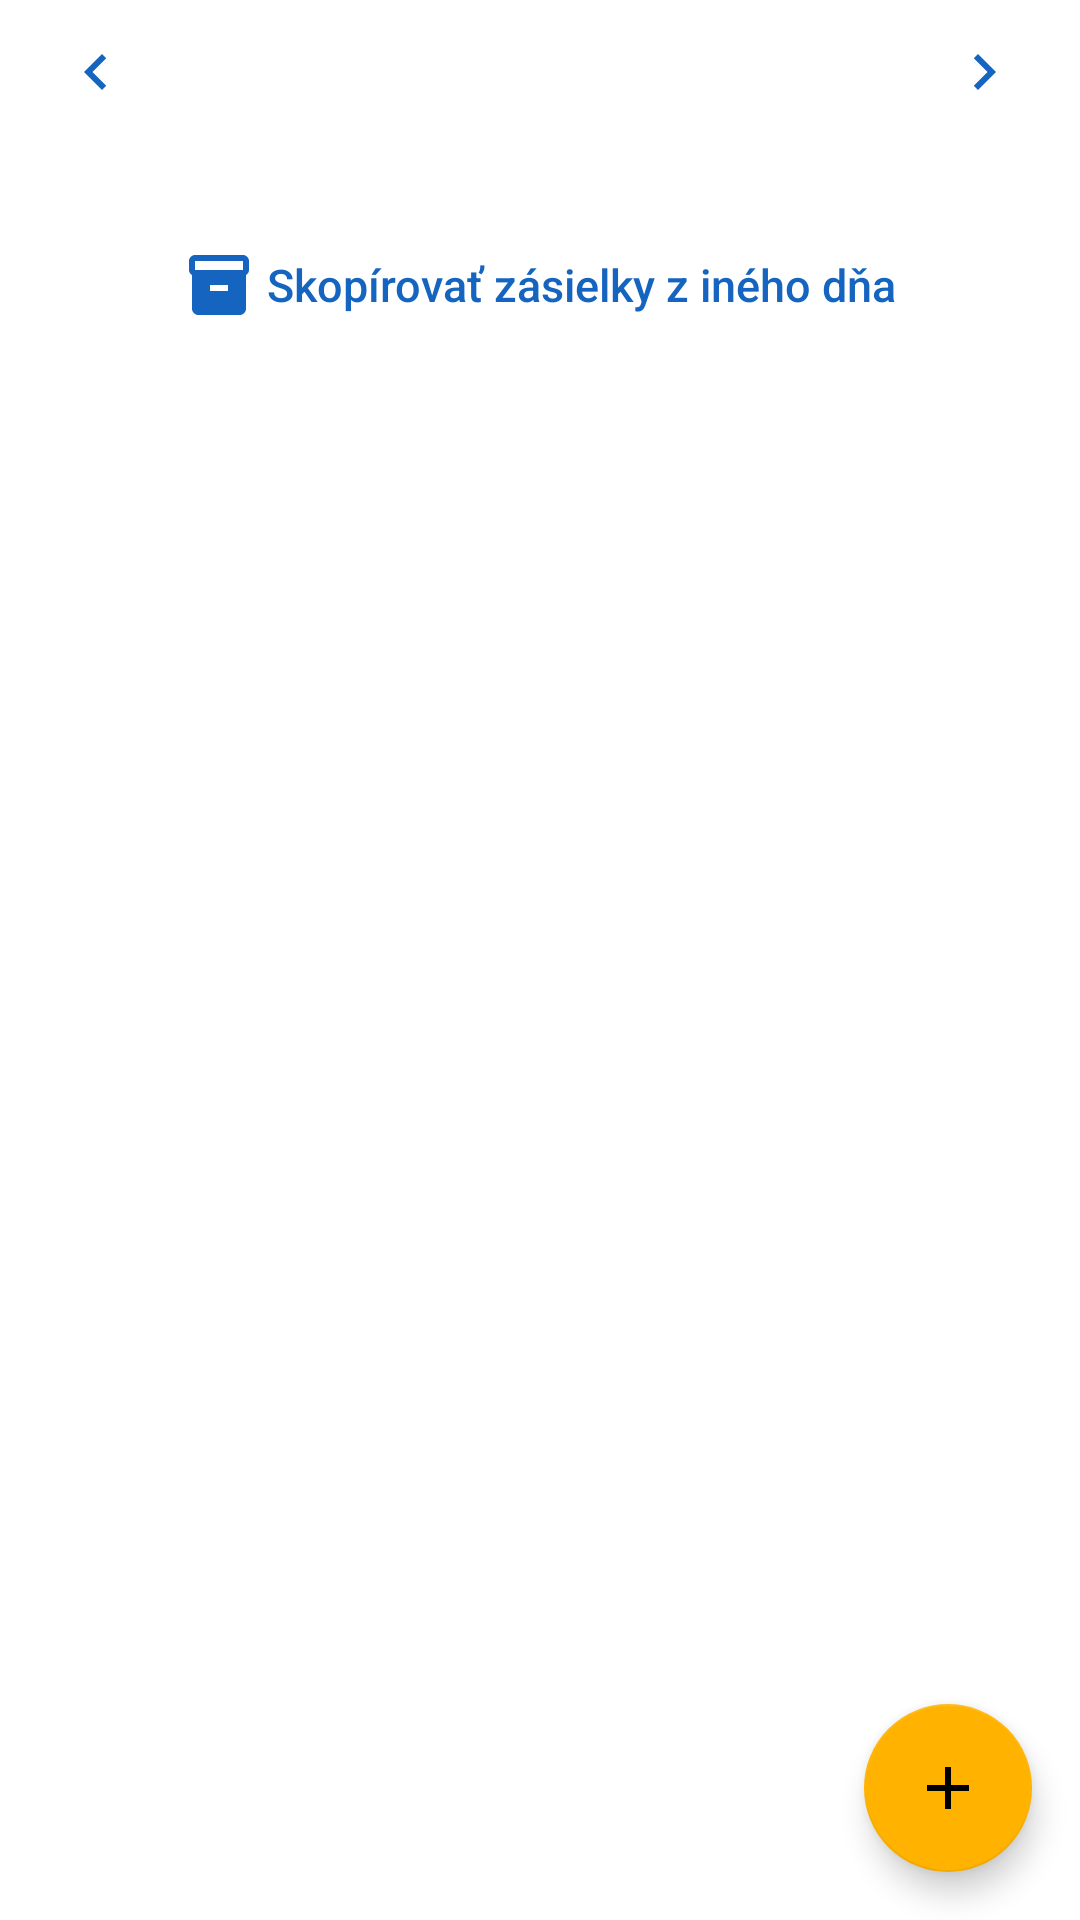

Locate icon controls on the screen. Image size 1080px×1920px, boxes as [x1,y1,x2,y2].
Nasledujúci deň: [974,54,996,90]
Predchádzajúci deň: [84,54,106,90]
Pridať: [864,1704,1032,1872]
